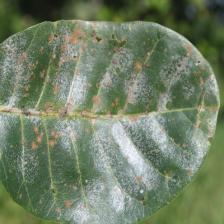red rust: (0, 19, 220, 223)
